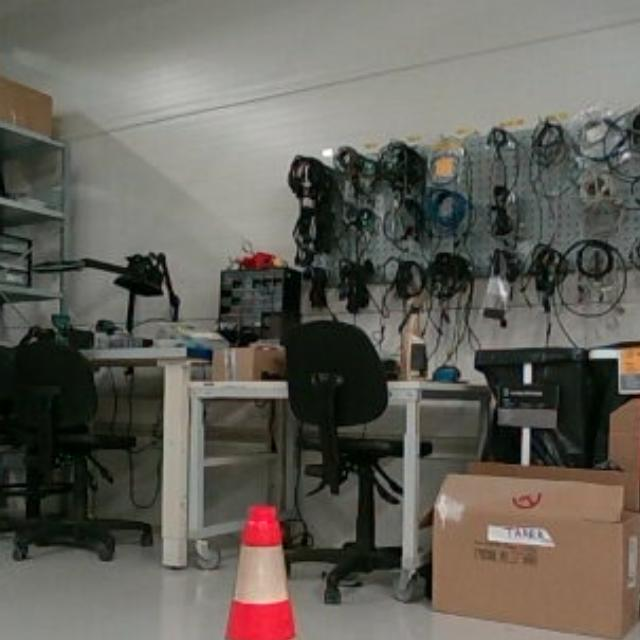Traffic-cone: (165, 504, 360, 640)
